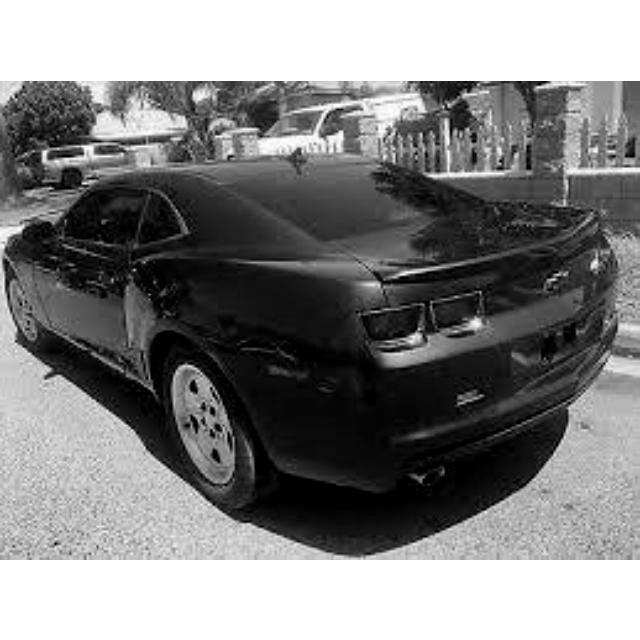quaterpanel-dent: (144, 263, 329, 374)
